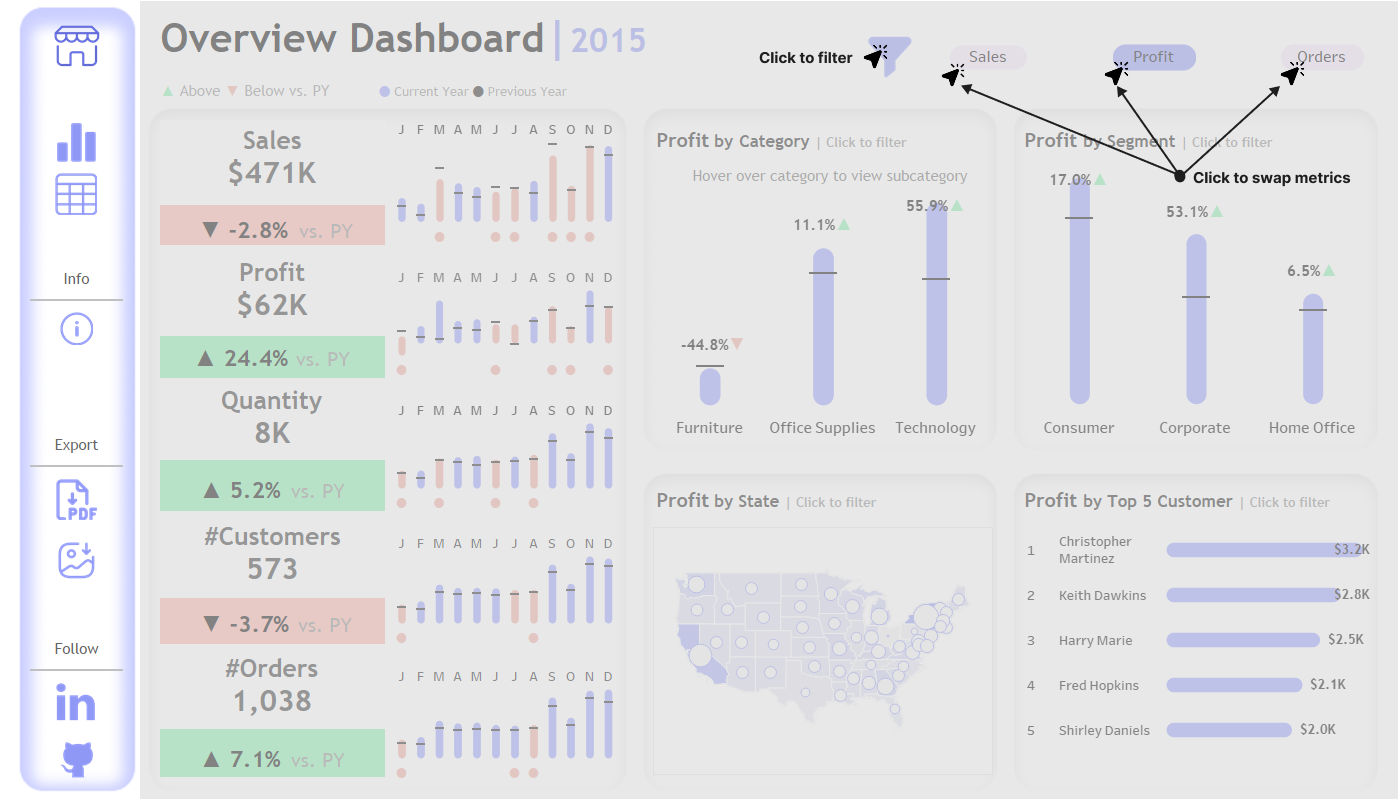

Layout of this report page (visuals, bound fields, positions):
{"tool":"tableau","page":{"name":"Overview","canvas":[1400,800],"ordinal":1},"visuals":[{"type":"image","param":"Image/Overview Background.png","box":[0,0,1400,800]},{"type":"text","box":[153,0,547,113]},{"type":"blank","box":[700,0,146,113]},{"type":"worksheet","title":"Metric Swap","mark":"Shape","cols":["Calculation_1212875741125902337","Calculation_1212875741125861376","Calculation_1212875741125951490"],"box":[846,0,544,113]},{"type":"blank","box":[1390,0,10,113]},{"type":"image","param":"Image/Overview Information.png","box":[140,1,1258,798]},{"type":"image","param":"Image/store.png","box":[20,20,113,50.7]},{"type":"dashboard-object","box":[864,27,51,57]},{"type":"parameter","param":"[Parameters].[Parameter 1]","box":[673,28,74,67]},{"type":"parameter","param":"[Parameters].[Parameter 3]","box":[747,28,115,67]},{"type":"blank","box":[20,70.7,113,50.7]},{"type":"worksheet","title":"Sales kpi text","mark":"Text","box":[156,116,233,85]},{"type":"worksheet","title":"Sales kpi Line","mark":"Line","rows":["CY Sales (copy)_1434396547047215108"],"cols":["Order Date","Calculation_1434396547068669995"],"box":[389,116,232,133]},{"type":"text","box":[649,118,348,45]},{"type":"text","box":[1017,118,358,45]},{"type":"dashboard-object","box":[20,121.5,113,42]},{"type":"text","box":[649,163,348,26]},{"type":"worksheet","title":"Metric By Segment","mark":"Line","rows":["Metric Swap Calc (CY) (copy)_502151424310472705"],"cols":["Segment"],"box":[1017,163,358,295]},{"type":"blank","box":[20,163.5,113,10]},{"type":"dashboard-object","box":[20,173.5,113,42]},{"type":"worksheet","title":"Metric By Category","mark":"Line","rows":["Metric Swap Calc (CY) (copy)_502151424310472705"],"cols":["Category"],"box":[649,189,348,269]},{"type":"worksheet","title":"Sales kpi Color","mark":"Square","box":[156,201,233,48]},{"type":"blank","box":[20,215.5,113,50.7]},{"type":"worksheet","title":"Profits kpi","mark":"Text","box":[156,249,233,83]},{"type":"worksheet","title":"Profits kpi Line","mark":"Line","rows":["CY Profit (copy)_1434396547050618891"],"cols":["Order Date","Calculation_1434396547070779437"],"box":[389,249,232,133]},{"type":"text","box":[20,266.2,113,26]},{"type":"blank","box":[20,292.2,113,16]},{"type":"dashboard-object","box":[20,308.2,113,41]},{"type":"worksheet","title":"Profits kpi Color","mark":"Square","box":[156,332,233,50]},{"type":"blank","box":[20,349.3,113,32]},{"type":"blank","box":[20,381.3,113,50.7]},{"type":"worksheet","title":"Quantity kpi","mark":"Text","box":[156,382,233,74]},{"type":"worksheet","title":"Quantity kpi Line","mark":"Line","rows":["CY Quantity (copy)_1434396547053137938"],"cols":["Order Date","Calculation_1434396547070169132"],"box":[389,382,232,133]},{"type":"text","box":[20,432,113,26]},{"type":"worksheet","title":"Quantity kpi Color","mark":"Square","box":[156,456,233,59]},{"type":"blank","box":[20,458,113,16]},{"type":"dashboard-object","box":[20,474,113,50.7]},{"type":"text","box":[649,478,348,45]},{"type":"text","box":[1017,478,358,45]},{"type":"worksheet","title":"Customers kpi","mark":"Text","box":[156,515,233,79]},{"type":"worksheet","title":"Customers kpi Line","mark":"Line","rows":["CY Customers (copy)_1434396547060551709"],"cols":["Order Date","Calculation_1434396547071336495"],"box":[389,515,232,133]},{"type":"worksheet","title":"Map","mark":"Automatic","box":[649,523,348,256]},{"type":"worksheet","title":"Top N Customers","mark":"Line","rows":["Calculation_479633426389733385","Customer Name"],"box":[1017,523,358,241]},{"type":"blank","box":[20,524.7,113,10]},{"type":"dashboard-object","box":[20,534.7,113,50.7]},{"type":"blank","box":[20,585.5,113,50.7]},{"type":"worksheet","title":"Customers kpi Color","mark":"Square","box":[156,594,233,54]},{"type":"text","box":[20,636.2,113,26]},{"type":"worksheet","title":"Orders kpi","mark":"Text","box":[156,648,233,77]},{"type":"worksheet","title":"Orders kpi Line","mark":"Line","rows":["CY Orders (copy)_1434396547064279077"],"cols":["Order Date","Calculation_1434396547071807536"],"box":[389,648,232,133]},{"type":"blank","box":[20,662.2,113,16]},{"type":"image","param":"Image/linkedin.png","box":[20,678.2,113,50.7]},{"type":"worksheet","title":"Orders kpi Color","mark":"Square","box":[156,725,233,56]},{"type":"blank","box":[20,729,113,10]},{"type":"image","param":"Image/github.png","box":[20,739,113,41]}]}

Visuals, with their boxes in screenshot pixels (x1, y1, x2, y2), scaled from the page's 1400x800 canvas onto the 1400x800 screenshot:
image: x1=0 y1=0 x2=1399 y2=799
text: x1=153 y1=0 x2=700 y2=113
blank: x1=700 y1=0 x2=846 y2=113
"Metric Swap" worksheet (Shape marks): x1=846 y1=0 x2=1390 y2=113
blank: x1=1390 y1=0 x2=1399 y2=113
image: x1=140 y1=1 x2=1398 y2=799
image: x1=20 y1=20 x2=133 y2=71
dashboard-object: x1=864 y1=27 x2=915 y2=84
parameter: x1=673 y1=28 x2=747 y2=95
parameter: x1=747 y1=28 x2=862 y2=95
blank: x1=20 y1=71 x2=133 y2=121
"Sales kpi text" worksheet (Text marks): x1=156 y1=116 x2=389 y2=201
"Sales kpi Line" worksheet (Line marks): x1=389 y1=116 x2=621 y2=249
text: x1=649 y1=118 x2=997 y2=163
text: x1=1017 y1=118 x2=1375 y2=163
dashboard-object: x1=20 y1=122 x2=133 y2=164
text: x1=649 y1=163 x2=997 y2=189
"Metric By Segment" worksheet (Line marks): x1=1017 y1=163 x2=1375 y2=458
blank: x1=20 y1=164 x2=133 y2=174
dashboard-object: x1=20 y1=174 x2=133 y2=216
"Metric By Category" worksheet (Line marks): x1=649 y1=189 x2=997 y2=458
"Sales kpi Color" worksheet (Square marks): x1=156 y1=201 x2=389 y2=249
blank: x1=20 y1=216 x2=133 y2=266
"Profits kpi" worksheet (Text marks): x1=156 y1=249 x2=389 y2=332
"Profits kpi Line" worksheet (Line marks): x1=389 y1=249 x2=621 y2=382
text: x1=20 y1=266 x2=133 y2=292
blank: x1=20 y1=292 x2=133 y2=308
dashboard-object: x1=20 y1=308 x2=133 y2=349
"Profits kpi Color" worksheet (Square marks): x1=156 y1=332 x2=389 y2=382
blank: x1=20 y1=349 x2=133 y2=381
blank: x1=20 y1=381 x2=133 y2=432
"Quantity kpi" worksheet (Text marks): x1=156 y1=382 x2=389 y2=456
"Quantity kpi Line" worksheet (Line marks): x1=389 y1=382 x2=621 y2=515
text: x1=20 y1=432 x2=133 y2=458
"Quantity kpi Color" worksheet (Square marks): x1=156 y1=456 x2=389 y2=515
blank: x1=20 y1=458 x2=133 y2=474
dashboard-object: x1=20 y1=474 x2=133 y2=525
text: x1=649 y1=478 x2=997 y2=523
text: x1=1017 y1=478 x2=1375 y2=523
"Customers kpi" worksheet (Text marks): x1=156 y1=515 x2=389 y2=594
"Customers kpi Line" worksheet (Line marks): x1=389 y1=515 x2=621 y2=648
"Map" worksheet: x1=649 y1=523 x2=997 y2=779
"Top N Customers" worksheet (Line marks): x1=1017 y1=523 x2=1375 y2=764
blank: x1=20 y1=525 x2=133 y2=535
dashboard-object: x1=20 y1=535 x2=133 y2=585
blank: x1=20 y1=586 x2=133 y2=636
"Customers kpi Color" worksheet (Square marks): x1=156 y1=594 x2=389 y2=648
text: x1=20 y1=636 x2=133 y2=662
"Orders kpi" worksheet (Text marks): x1=156 y1=648 x2=389 y2=725
"Orders kpi Line" worksheet (Line marks): x1=389 y1=648 x2=621 y2=781
blank: x1=20 y1=662 x2=133 y2=678
image: x1=20 y1=678 x2=133 y2=729
"Orders kpi Color" worksheet (Square marks): x1=156 y1=725 x2=389 y2=781
blank: x1=20 y1=729 x2=133 y2=739
image: x1=20 y1=739 x2=133 y2=780
